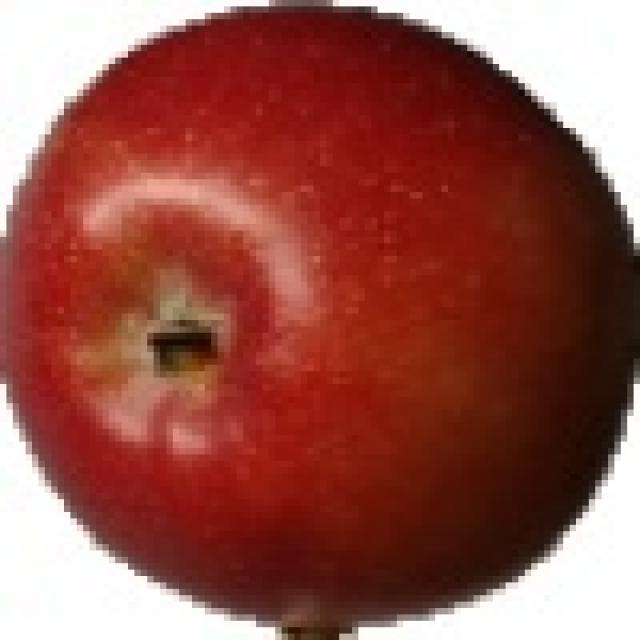apple: (7, 6, 636, 629)
